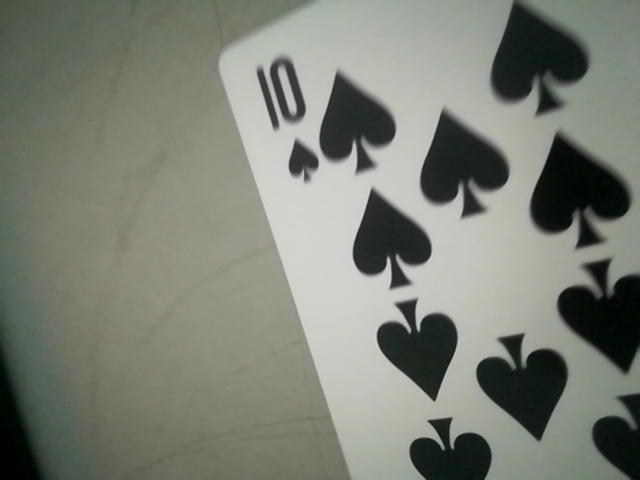ht 10: (250, 45, 330, 193)
